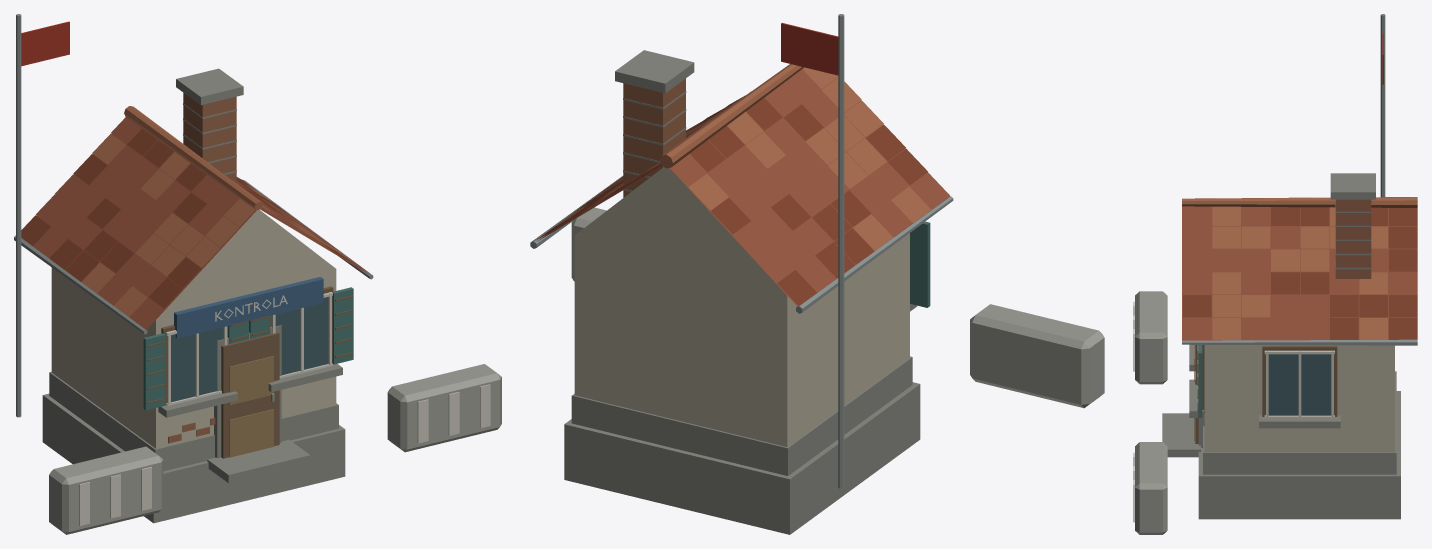
The model's file is checkpoint.glb.
3 views of the same model, side by side, from view 1: azimuth 30°, elevation 25°; view 2: azimuth 150°, elevation 25°; view 3: azimuth 270°, elevation 25° (orthographic). The views are drawn at different scales.
Parts seen in each view (by area): view 1: checkpoint_visual; view 2: checkpoint_visual; view 3: checkpoint_visual.
Boxes of the visible parts, x1,y1,x2,y2 form: checkpoint_visual: (14,14,501,534); checkpoint_visual: (530,14,1104,534); checkpoint_visual: (1133,14,1417,534).
Size of what is drawn, in the model's own units: 7.8 by 7.5 by 4.78.
